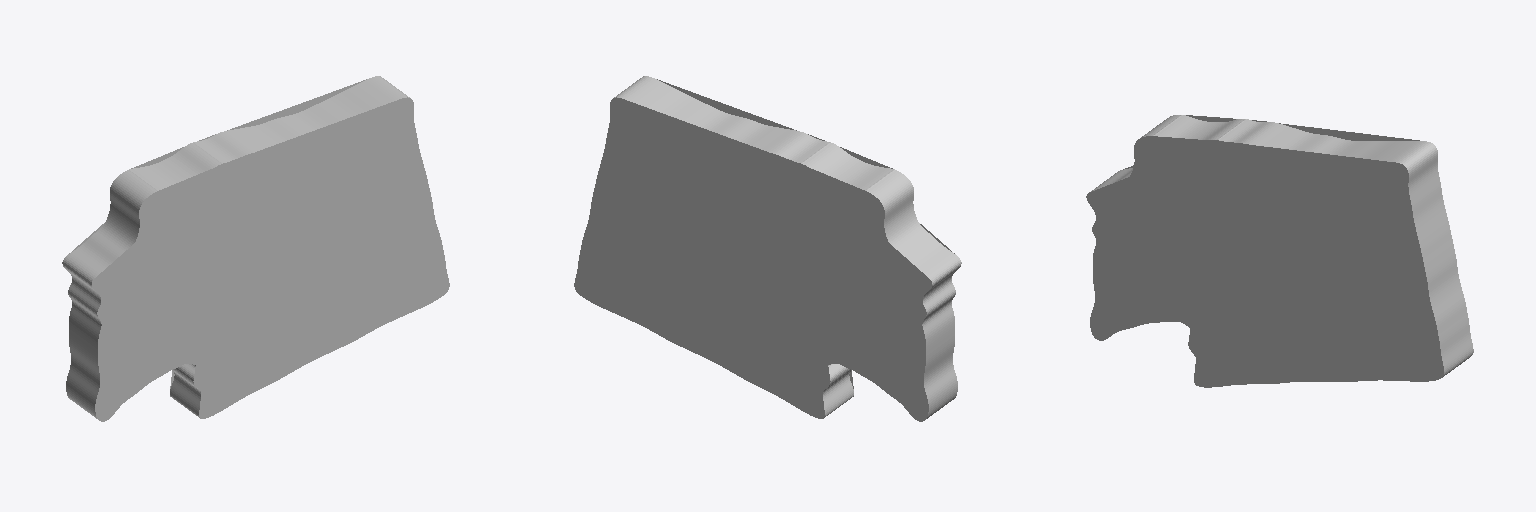
3 views of the same model, side by side, from view 1: azimuth 30°, elevation 25°; view 2: azimuth 150°, elevation 25°; view 3: azimuth 330°, elevation 25° (orthographic).
Visible parts, largest first — view 1: 平面; view 2: 平面; view 3: 平面.
Part boxes in pixels (x1,y1,x2,y2): 平面: (62, 76, 449, 421); 平面: (574, 76, 961, 421); 平面: (1086, 115, 1473, 387).
Bounding box in the file's own units: 1.41 × 1.03 × 0.2.